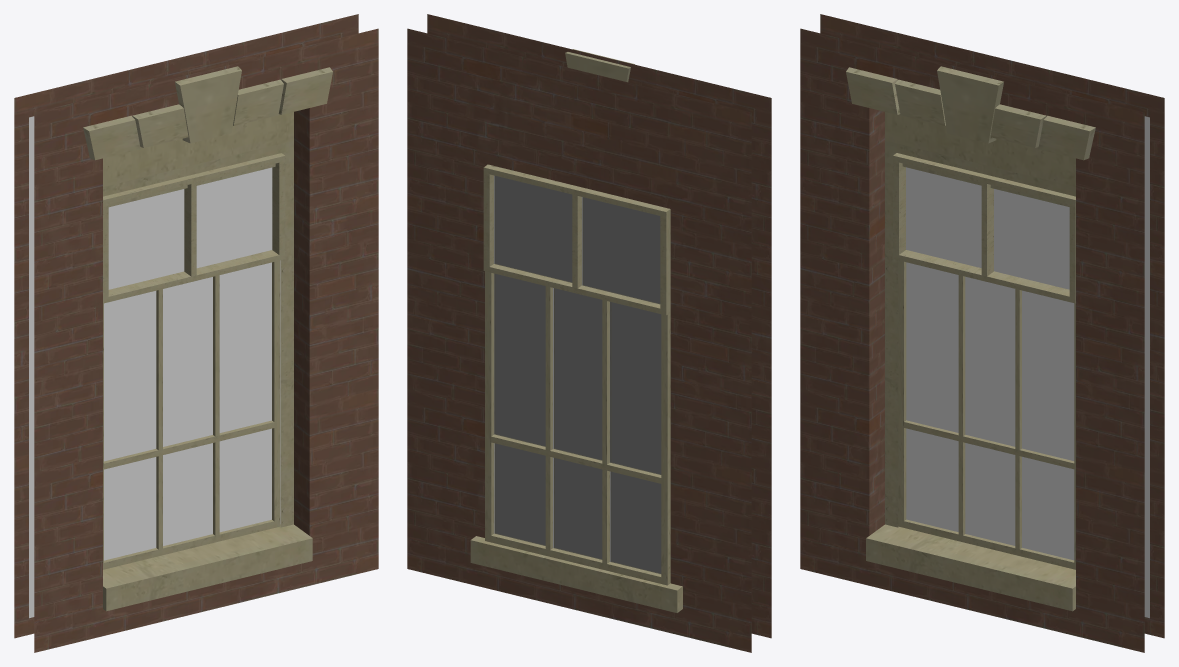
Rendered from Brick_Window_Trim.glb.
3 views of the same model, side by side, from view 1: azimuth 30°, elevation 25°; view 2: azimuth 150°, elevation 25°; view 3: azimuth 330°, elevation 25° (orthographic).
Parts seen in each view (by area): view 1: Brick_Window_Trim; view 2: Brick_Window_Trim; view 3: Brick_Window_Trim.
Boxes of the visible parts, box(x1,y1,x2,y2) form: Brick_Window_Trim: box(14, 14, 378, 652); Brick_Window_Trim: box(407, 14, 771, 652); Brick_Window_Trim: box(800, 14, 1164, 652).
Size of the model in its own units: 2 by 3 by 0.3039.
4 materials, 2 textured.
